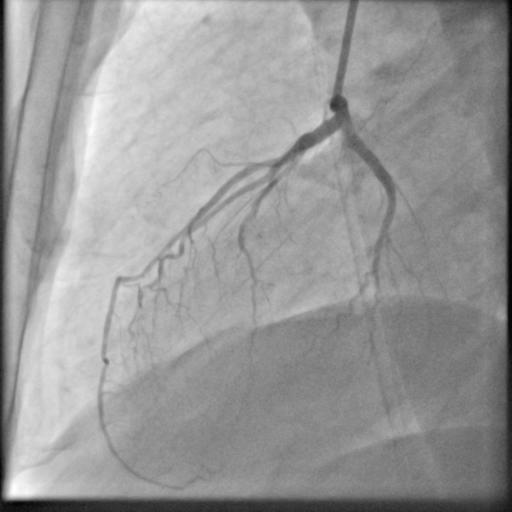Stenosis: (274, 142, 297, 164)
